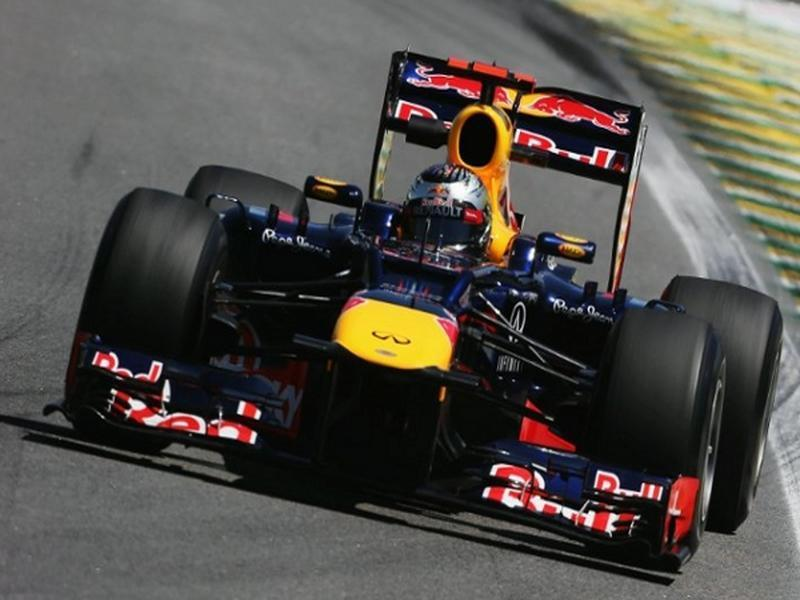f1: (48, 9, 776, 572)
